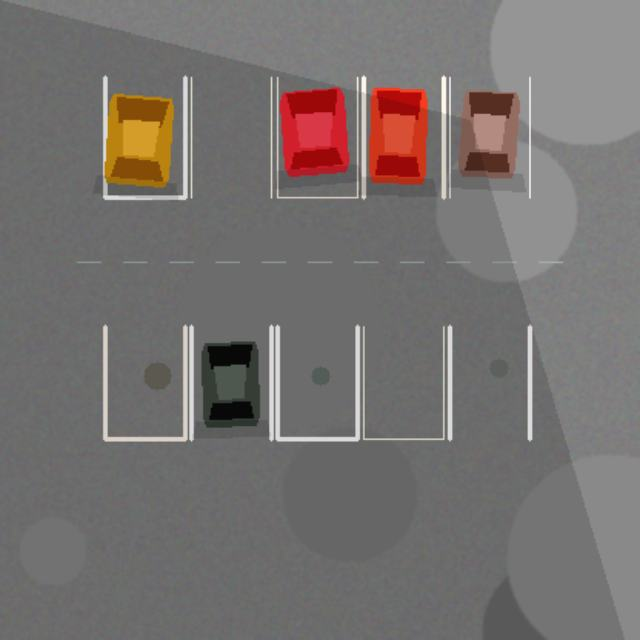space-empty: (191, 77, 271, 197), (105, 326, 185, 438), (277, 326, 357, 438), (363, 326, 443, 438), (449, 326, 529, 438)
space-occupied: (105, 77, 185, 197), (277, 77, 357, 197), (363, 77, 443, 197), (449, 77, 529, 197), (191, 326, 271, 438)
